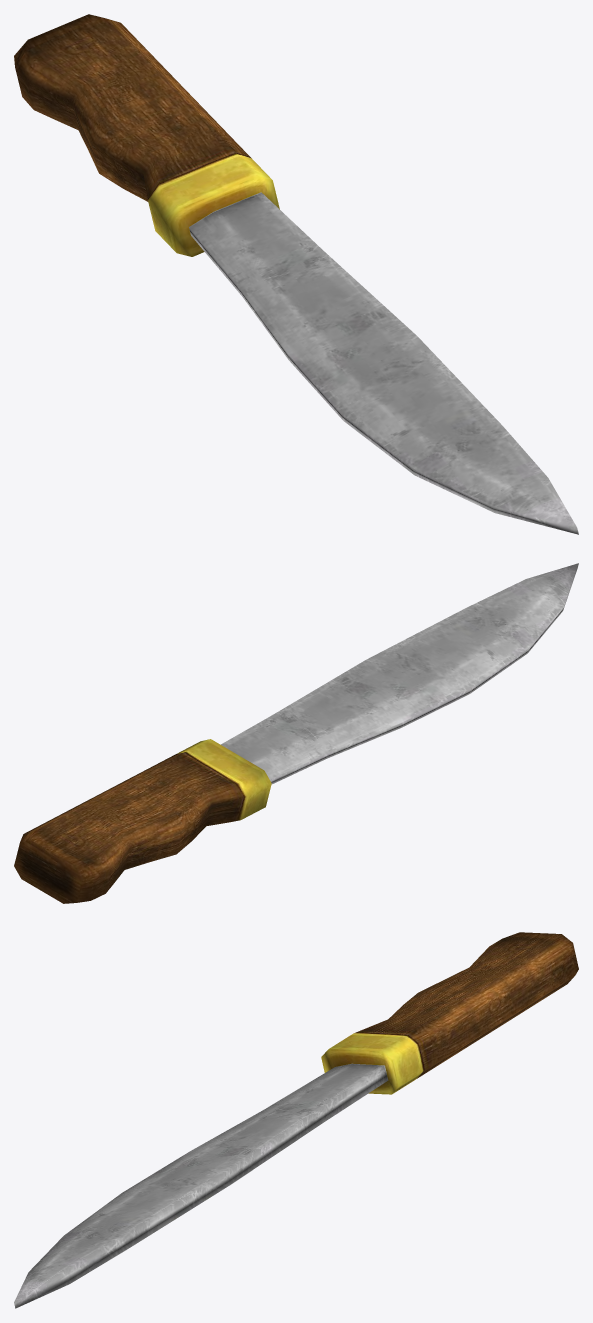
The model's file is knife-base.glb.
The picture shows the model from 3 angles, top to bottom: view 1: azimuth 30°, elevation 25°; view 2: azimuth 150°, elevation 25°; view 3: azimuth 330°, elevation 25°; orthographic projection. The views are drawn at different scales.
Size of the model in its own units: 0.1139 by 0.0493 by 0.6511.
Materials: 1 (1 with a texture image).
